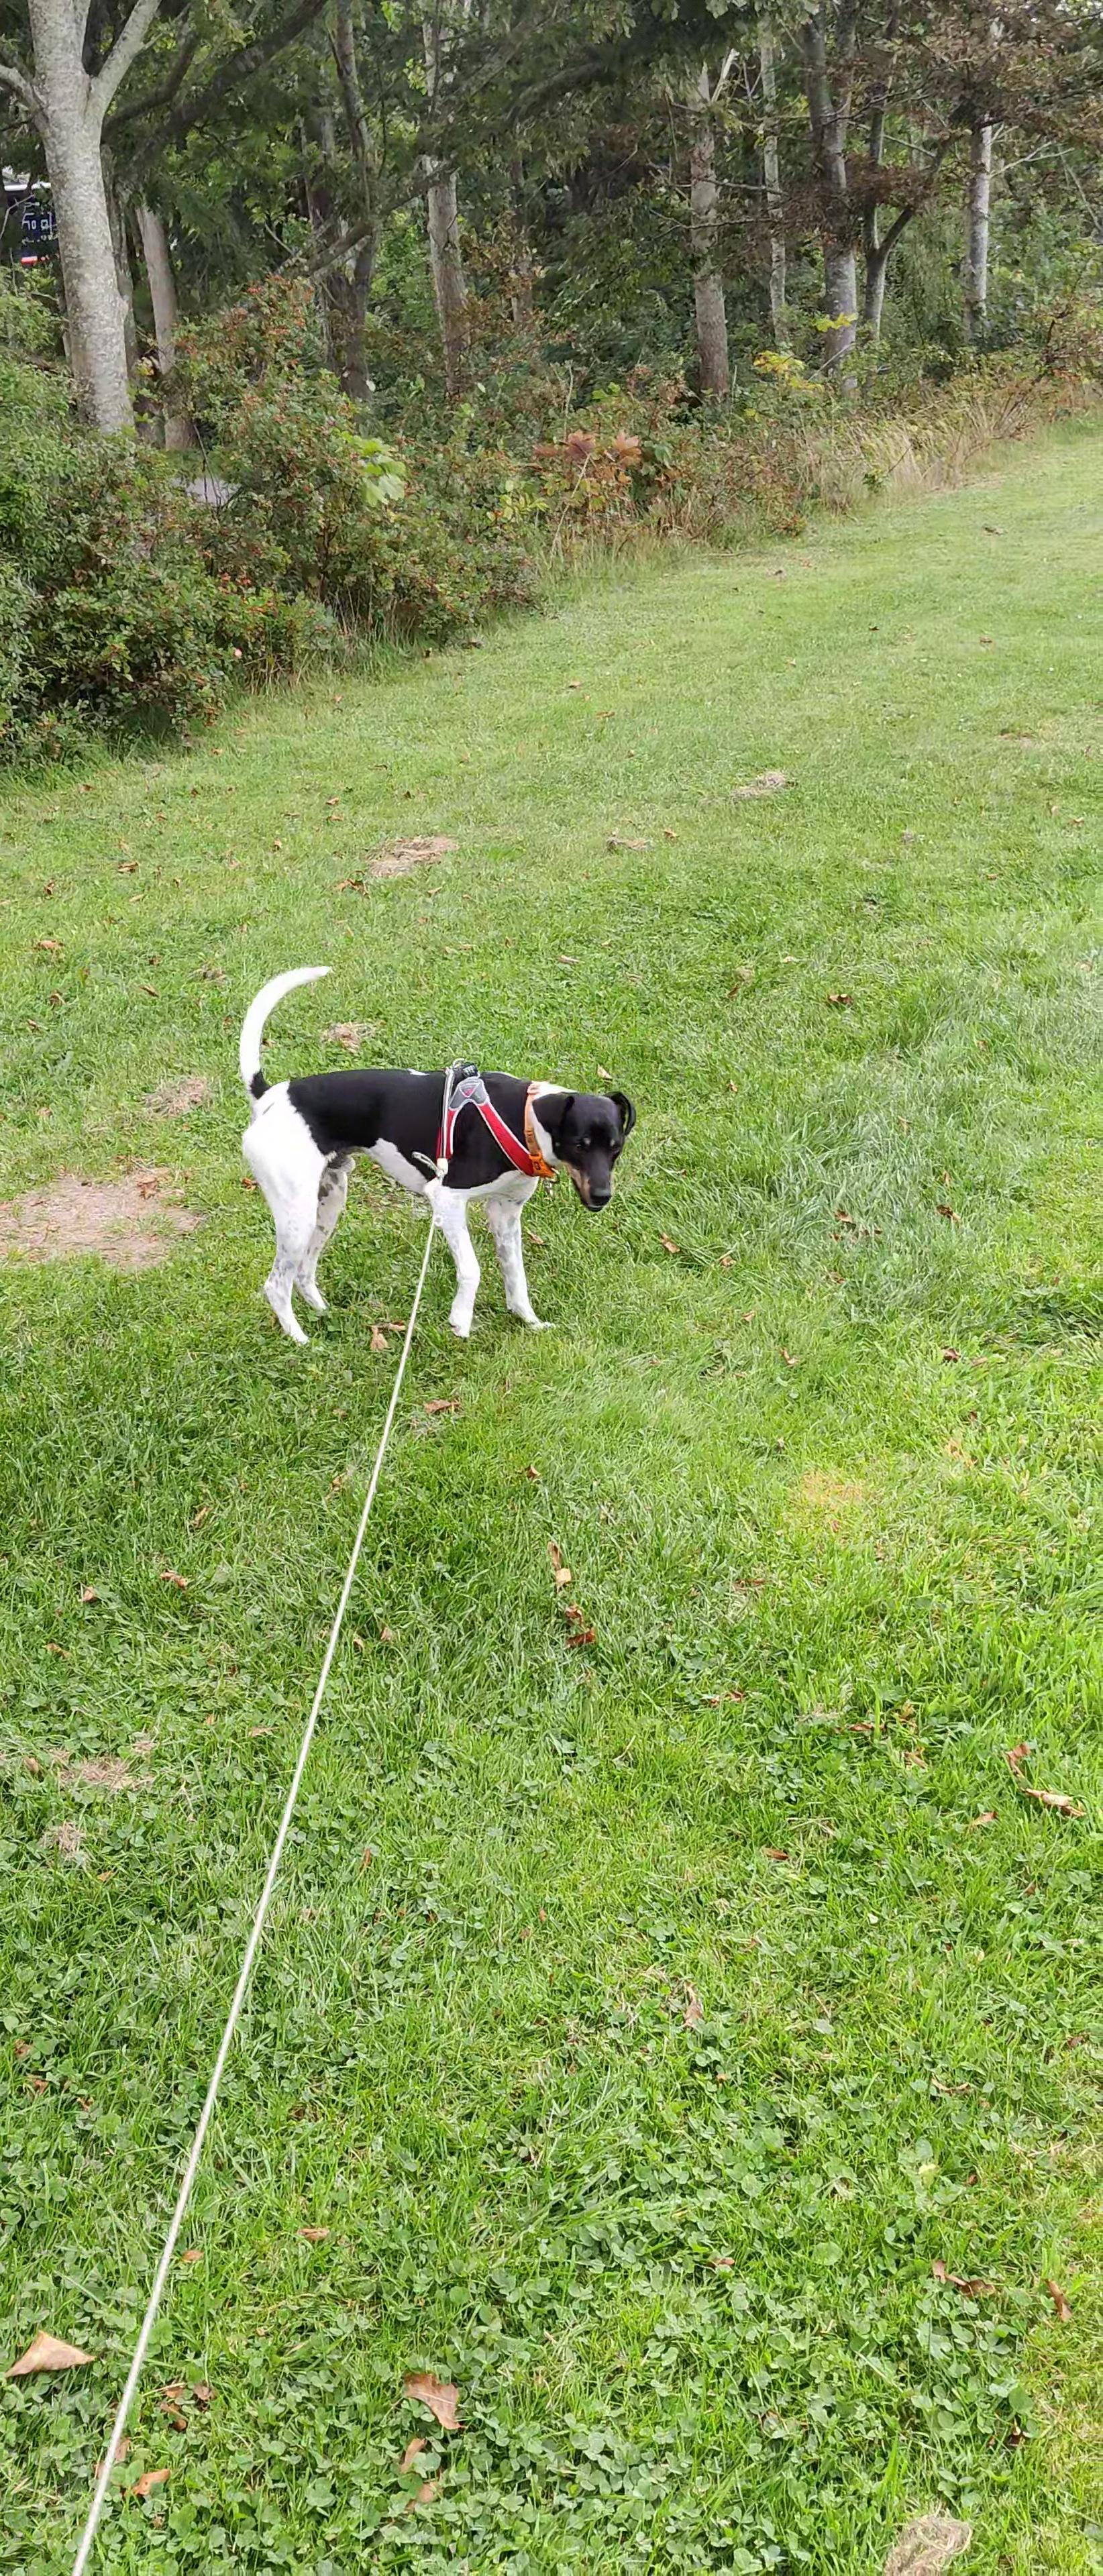Dog: (205, 948, 649, 1368)
